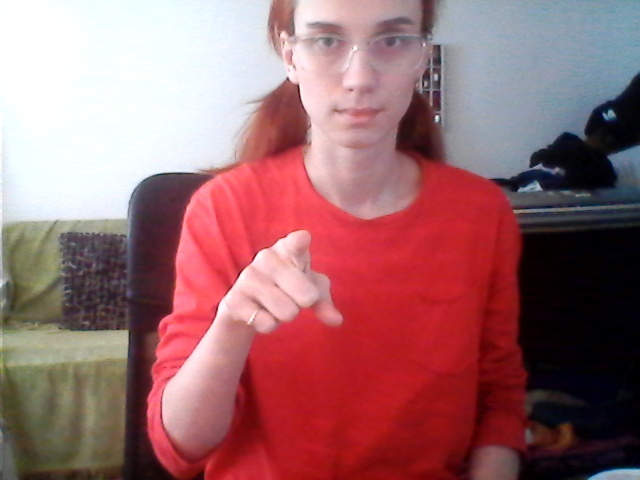ty: (211, 217, 357, 343)
